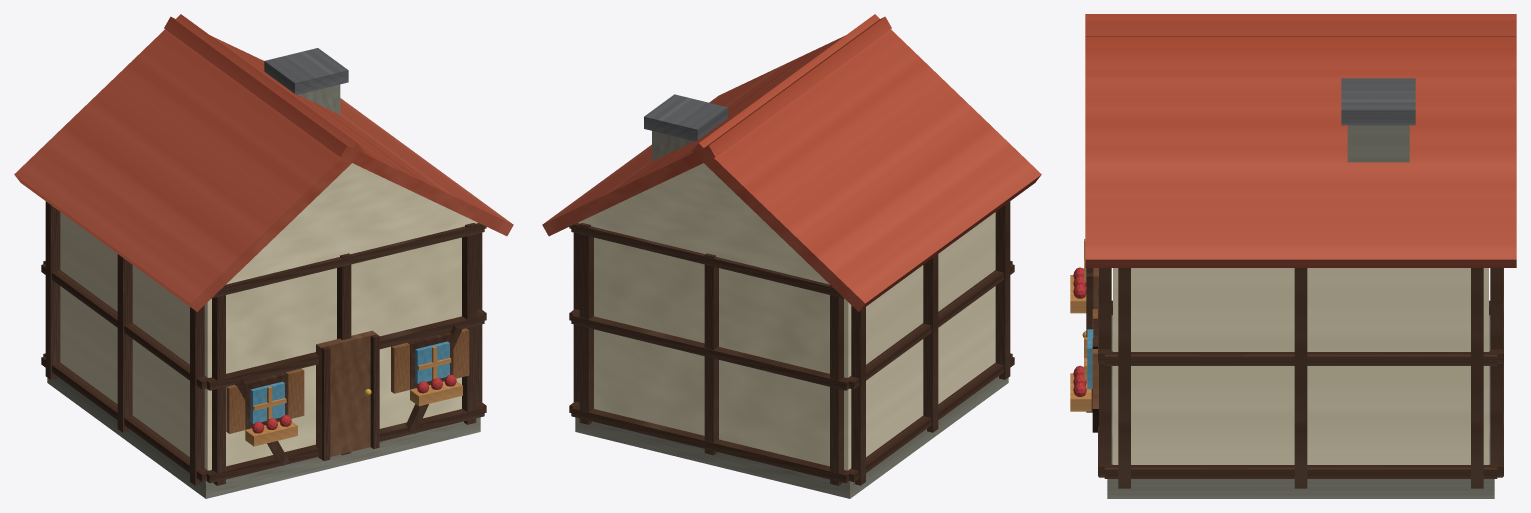
File: huis_vakwerk_klein.glb
The picture shows the model from 3 angles, left to right: view 1: azimuth 30°, elevation 25°; view 2: azimuth 150°, elevation 25°; view 3: azimuth 270°, elevation 25°; orthographic projection. The views are drawn at different scales.
Visible parts, largest first — view 1: world; view 2: world; view 3: world.
Boxes of the visible parts, box(x1,y1,x2,y2) form: world: box(14, 14, 513, 498); world: box(542, 14, 1041, 498); world: box(1070, 14, 1516, 498).
Size of the model in its own units: 4.7 by 4.55 by 4.61.
Materials: 1 (1 with a texture image).
